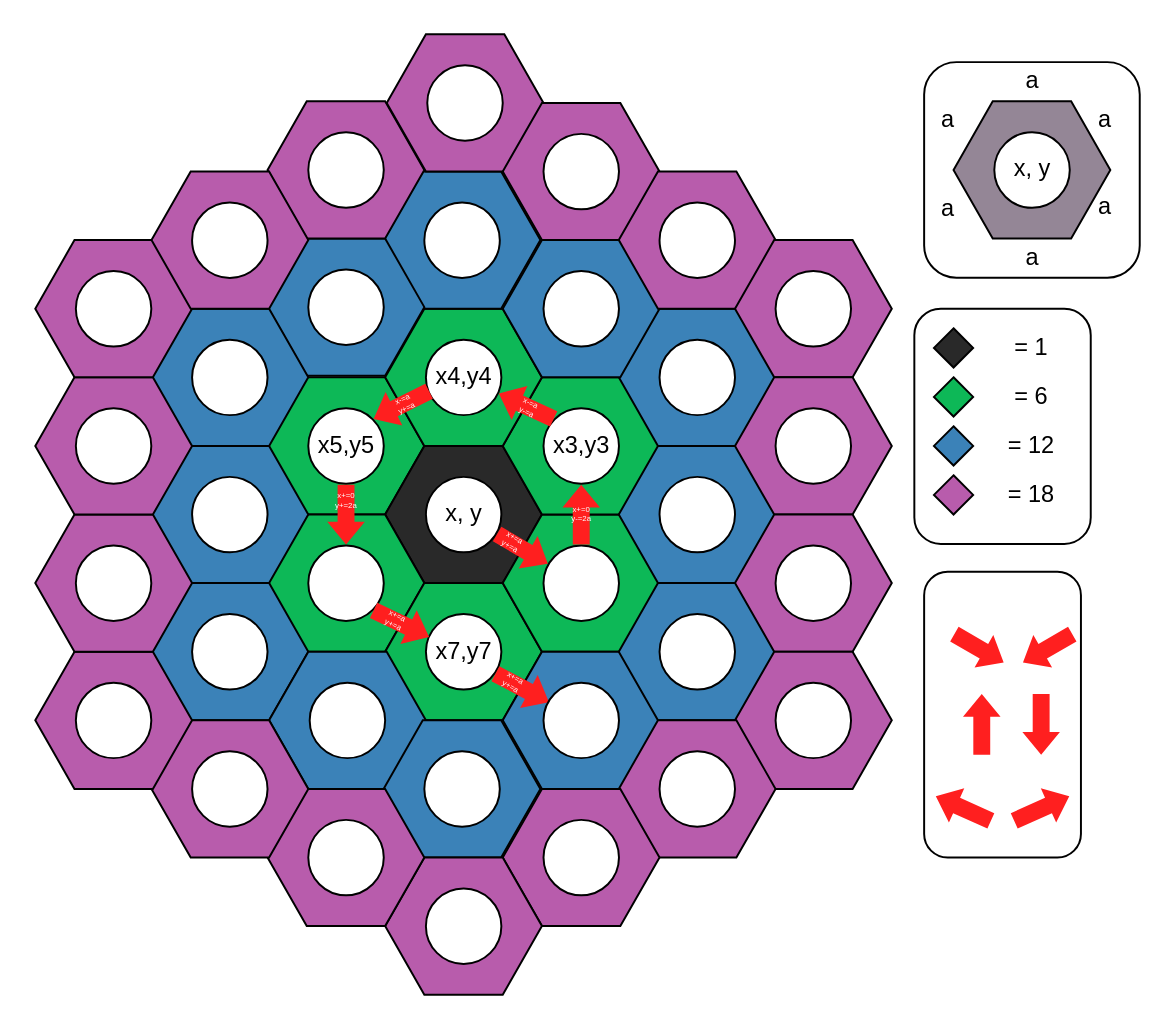
Some shapes in this 1174 by 1029 pixel diagram are drawn without their labels. Each missing label, with the box of its shape:
Dostępne akcje:: (922, 570, 1081, 858)
x2,y2: (542, 544, 619, 621)
x6,y6: (306, 544, 384, 621)
